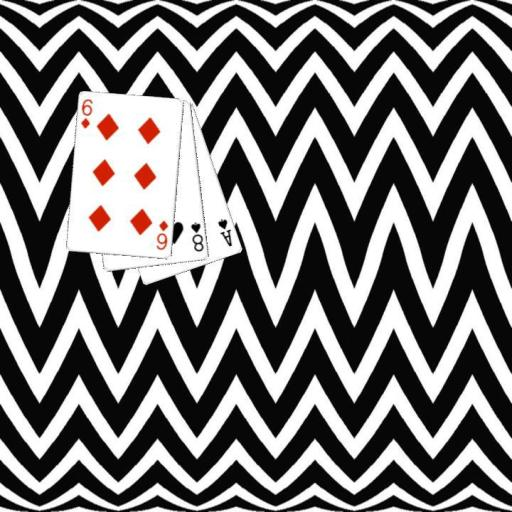6D: (78, 96, 95, 130), (154, 218, 170, 252)
8S: (188, 219, 205, 253)
AS: (215, 216, 234, 248)
